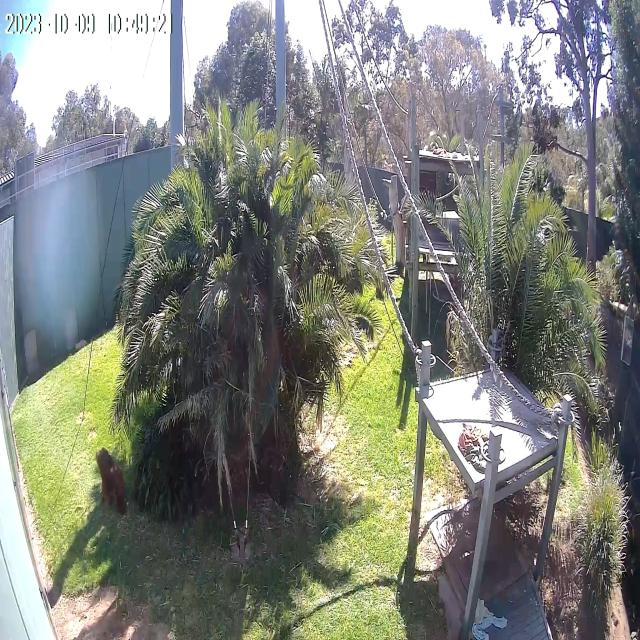orangutan: (95, 446, 126, 517)
